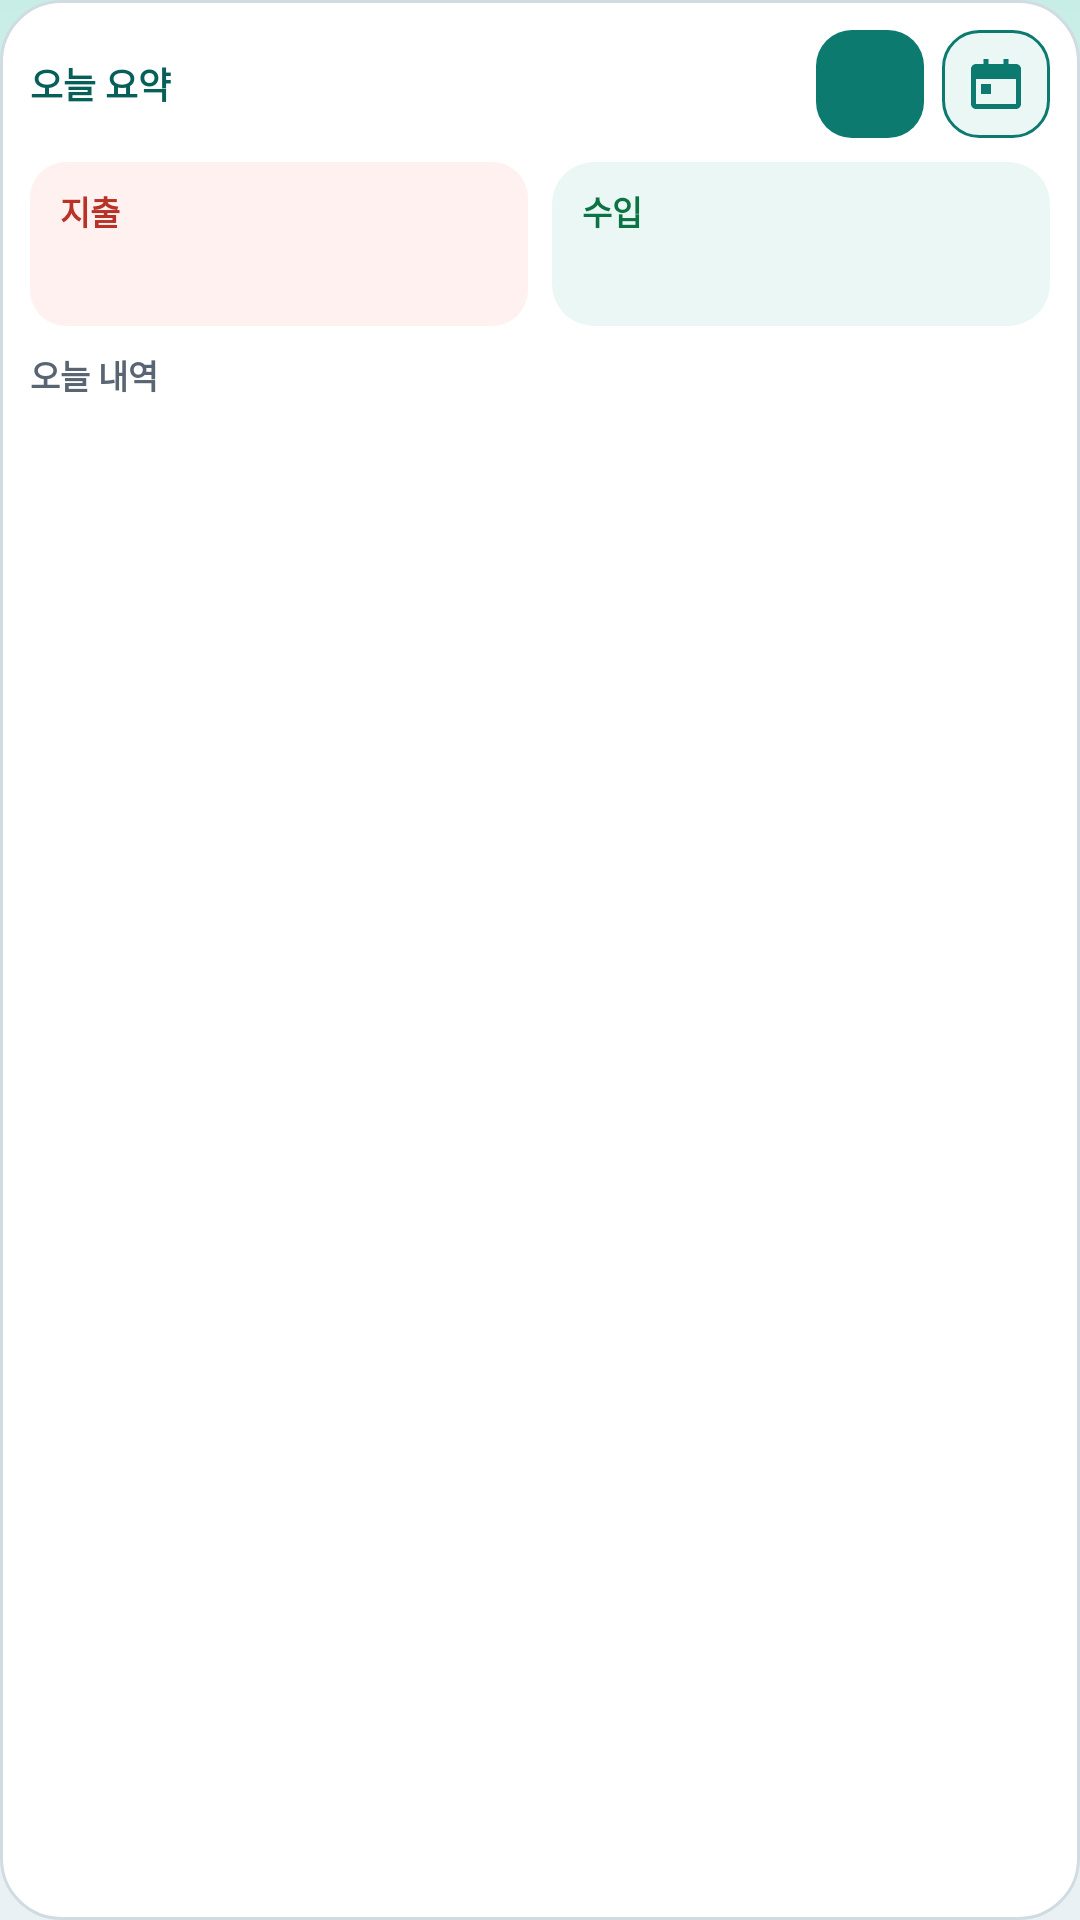

Icons on this 1080px×1920px Android screen, each with the point to tap as (x,y):
달력: (996,84)
